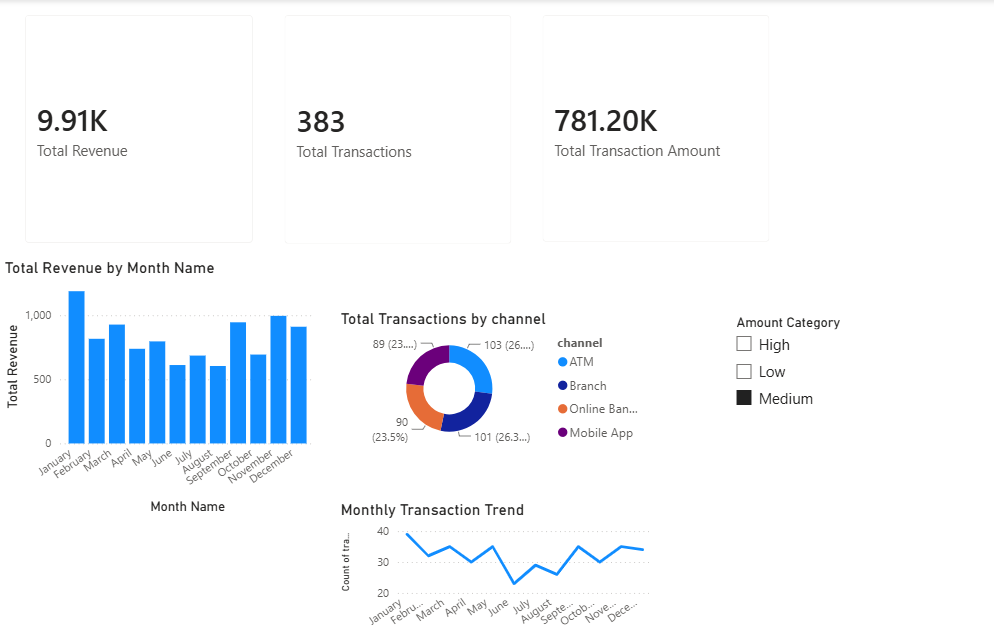

This screenshot's page, from the dashboard's own definition file:
{"tool":"powerbi","page":{"name":"Page 1","canvas":[1280,720],"ordinal":0},"visuals":[{"type":"cardVisual","fields":{"Data":["Transactions.Total Revenue"]},"box":[10,0,280,280],"z":0},{"type":"cardVisual","fields":{"Data":["Transactions.Total Transactions"]},"box":[289.1,0,279.7,281.6],"z":1},{"type":"cardVisual","fields":{"Data":["Transactions.Total Transaction Amount"]},"box":[568.1,0,279.8,279.8],"z":2},{"type":"clusteredColumnChart","fields":{"Y":["Transactions.Total Revenue"],"Category":["Transactions.Month Name"]},"box":[0,280.3,344.6,280.3],"z":3},{"type":"donutChart","fields":{"Category":["Transactions.channel"],"Y":["Transactions.Total Transactions"]},"box":[362.7,335.2,344.9,150.6],"z":4},{"type":"slicer","fields":{"Values":["Transactions.Amount Category"]},"box":[782.1,335.2,344.9,150.6],"z":5},{"type":"lineChart","title":"Monthly Transaction Trend","fields":{"Category":["Transactions.Month Name"],"Y":["CountNonNull(Transactions.transaction_id)"]},"box":[362.7,540.8,344.9,149],"z":6}]}

Visuals, with their boxes on the page's 1280x720 design canvas (x1, y1, x2, y2). These are canvas units, not pixel positions in the 994x643 screenshot, which may show the page scaled, cropped or inside an application window:
cardVisual - Transactions.Total Revenue: x1=10 y1=0 x2=290 y2=280
cardVisual - Transactions.Total Transactions: x1=289 y1=0 x2=569 y2=282
cardVisual - Transactions.Total Transaction Amount: x1=568 y1=0 x2=848 y2=280
clusteredColumnChart - Transactions.Total Revenue x Transactions.Month Name: x1=0 y1=280 x2=345 y2=561
donutChart - Transactions.channel x Transactions.Total Transactions: x1=363 y1=335 x2=708 y2=486
slicer - Transactions.Amount Category: x1=782 y1=335 x2=1127 y2=486
"Monthly Transaction Trend" lineChart: x1=363 y1=541 x2=708 y2=690
